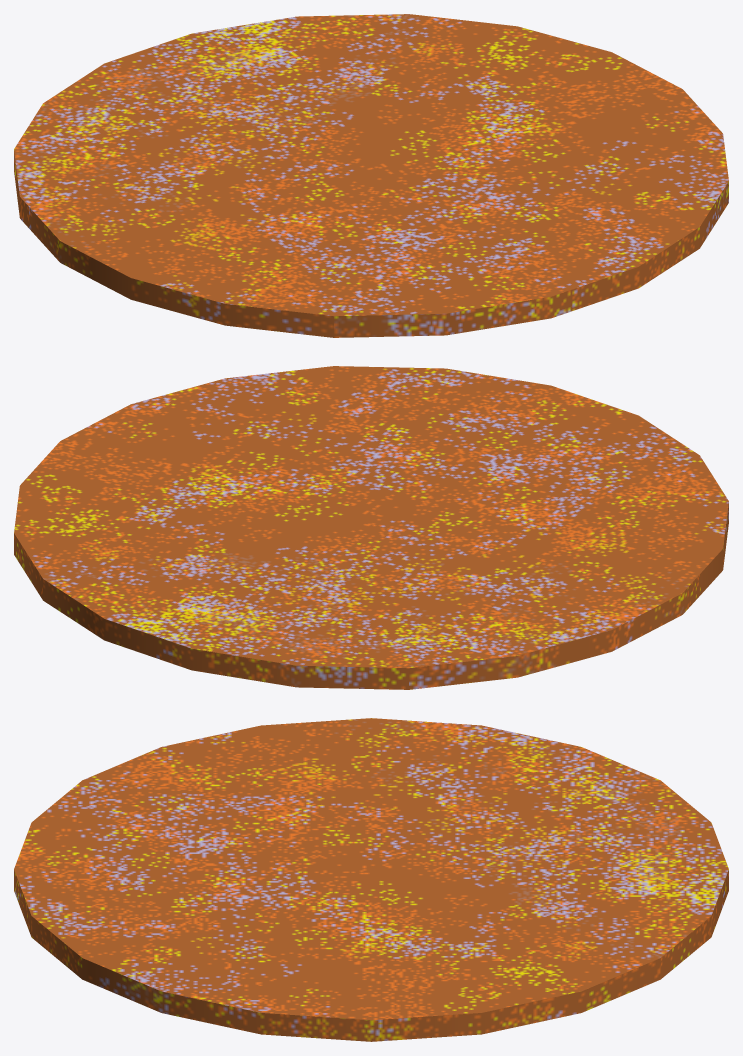
The model's file is Platform.fbx.
3 renders of one model, top to bottom at view 1: azimuth 30°, elevation 25°; view 2: azimuth 150°, elevation 25°; view 3: azimuth 270°, elevation 25°, orthographic.
Parts seen in each view (by area): view 1: pCylinder1; view 2: pCylinder1; view 3: pCylinder1.
Part boxes in pixels (x1,y1,x2,y2): pCylinder1: (14, 14, 728, 337); pCylinder1: (14, 366, 728, 689); pCylinder1: (14, 718, 728, 1041).
Bounding box in the file's own units: 6 × 0.2 × 6.
